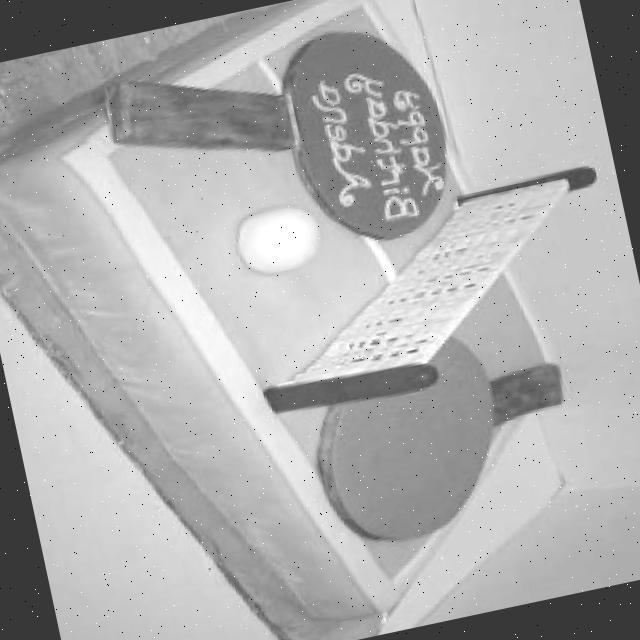ping-pong-ball: (227, 197, 325, 280)
